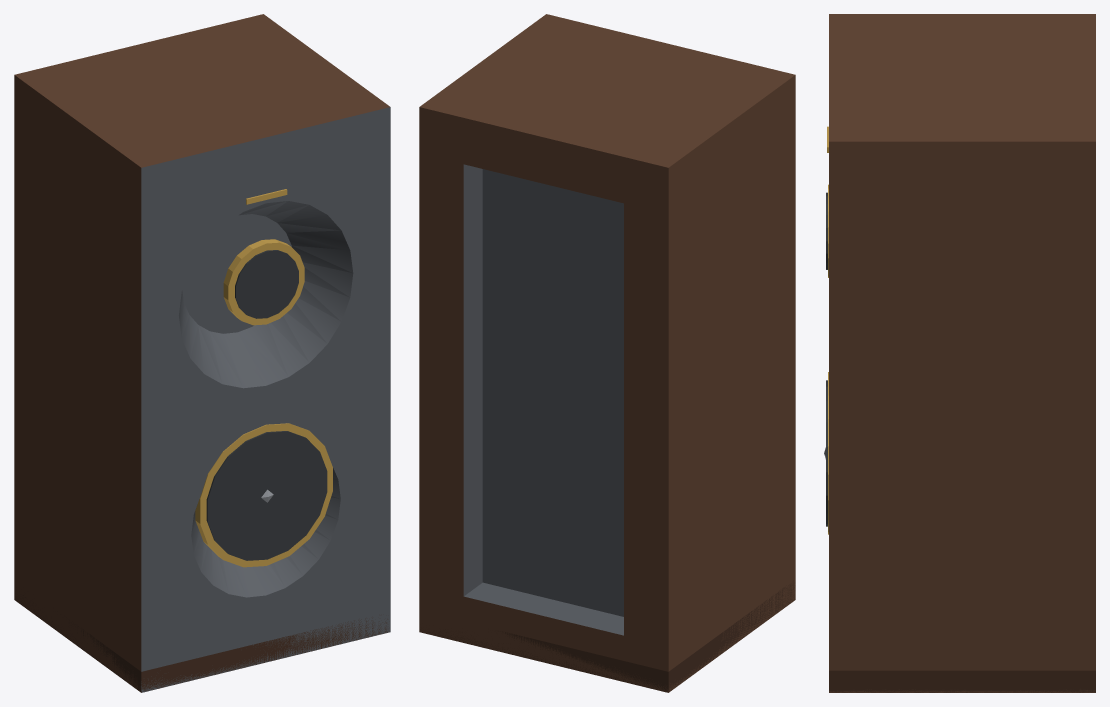
The model's file is speakerSmall.glb.
3 views of the same model, side by side, from view 1: azimuth 30°, elevation 25°; view 2: azimuth 150°, elevation 25°; view 3: azimuth 270°, elevation 25° (orthographic). The views are drawn at different scales.
Parts seen in each view (by area): view 1: speakerSmall(Clone); view 2: speakerSmall(Clone); view 3: speakerSmall(Clone).
Boxes of the visible parts, bbox=[...] form: speakerSmall(Clone): bbox=[14, 14, 390, 692]; speakerSmall(Clone): bbox=[419, 14, 795, 692]; speakerSmall(Clone): bbox=[824, 14, 1095, 692].
Size of the model in its own units: 0.148 by 0.298 by 0.1332.
